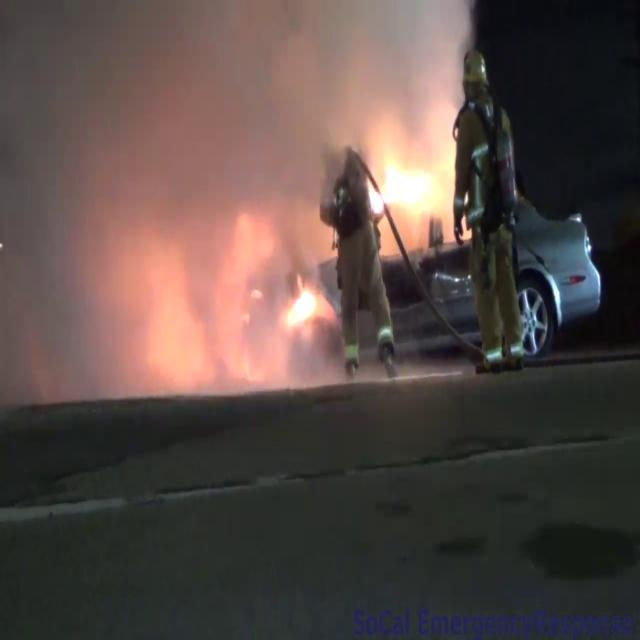Fire: (366, 136, 444, 225), (282, 276, 329, 332)
Smoke: (1, 0, 333, 396)
